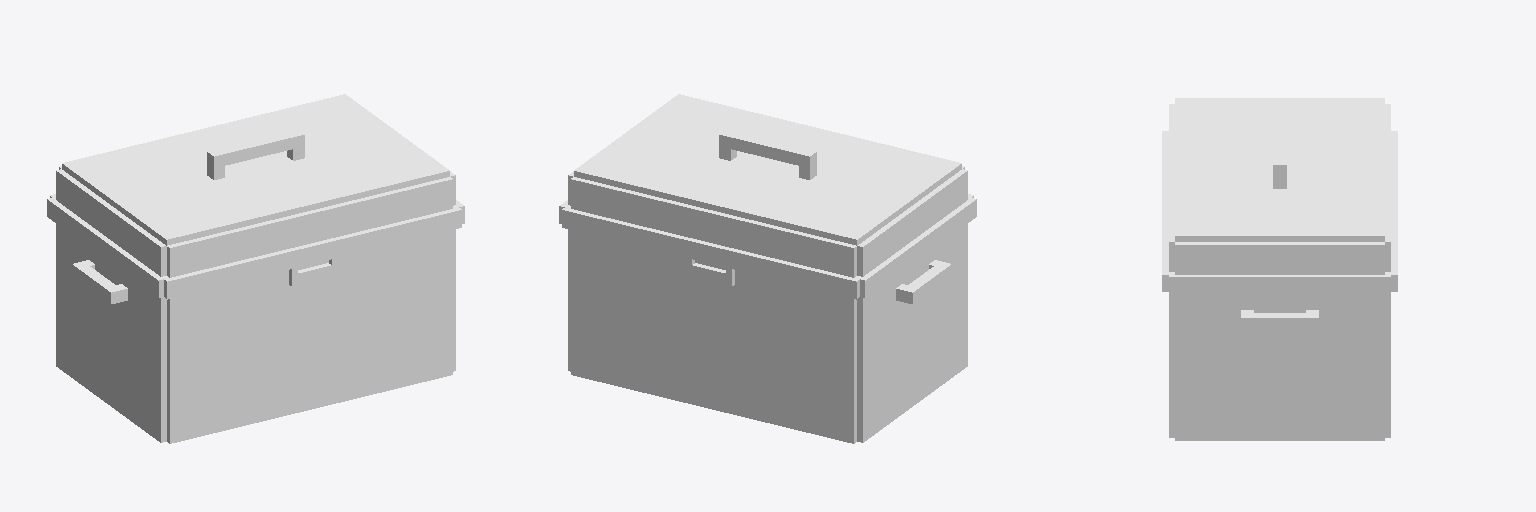
The model's file is iceboxe.obj.
The picture shows the model from 3 angles: view 1: azimuth 30°, elevation 25°; view 2: azimuth 150°, elevation 25°; view 3: azimuth 270°, elevation 25°; orthographic projection.
Parts seen in each view (by area): view 1: iceboxe; view 2: iceboxe; view 3: iceboxe.
Part boxes in pixels (x1,y1,x2,y2): iceboxe: (47,94,464,443); iceboxe: (559,94,976,443); iceboxe: (1162,98,1397,440).
Bounding box in the file's own units: 58 × 38 × 36.